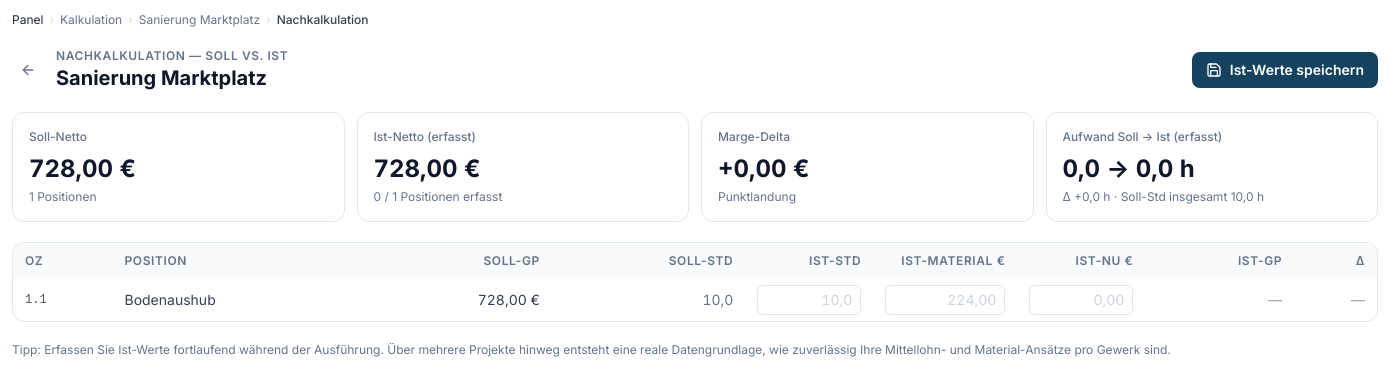
Scenario: ProjectActuals — NumInput edits › German decimal: typing "14,5" then blur stores 14.5 (displays back as "14,50")
The width and height of the screenshot is (1390, 374).
Expected: the text "0 / 1 Positionen erfasst" is shown, [374,189,502,204]
Type "14,5" into the field with placeholder "10,0" at (809,300), box [757,285,861,315]
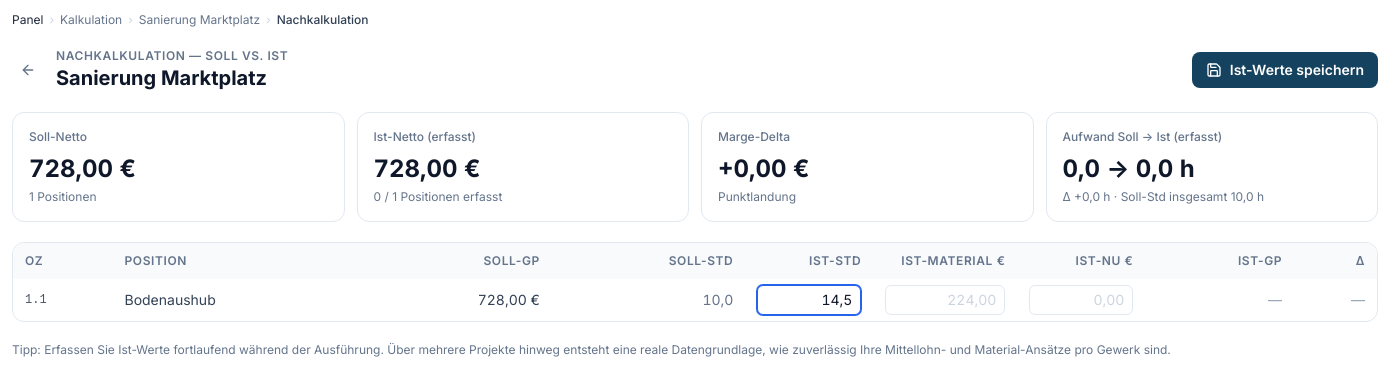
Leave the 1st field, box [757,285,861,315]
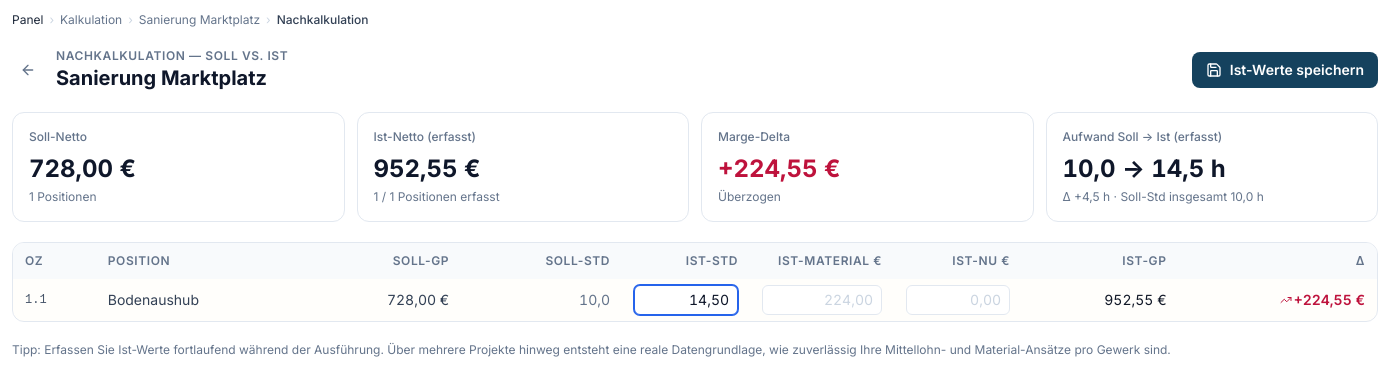
Expected: the 1st field holds "14,50", [634,285,738,315]
